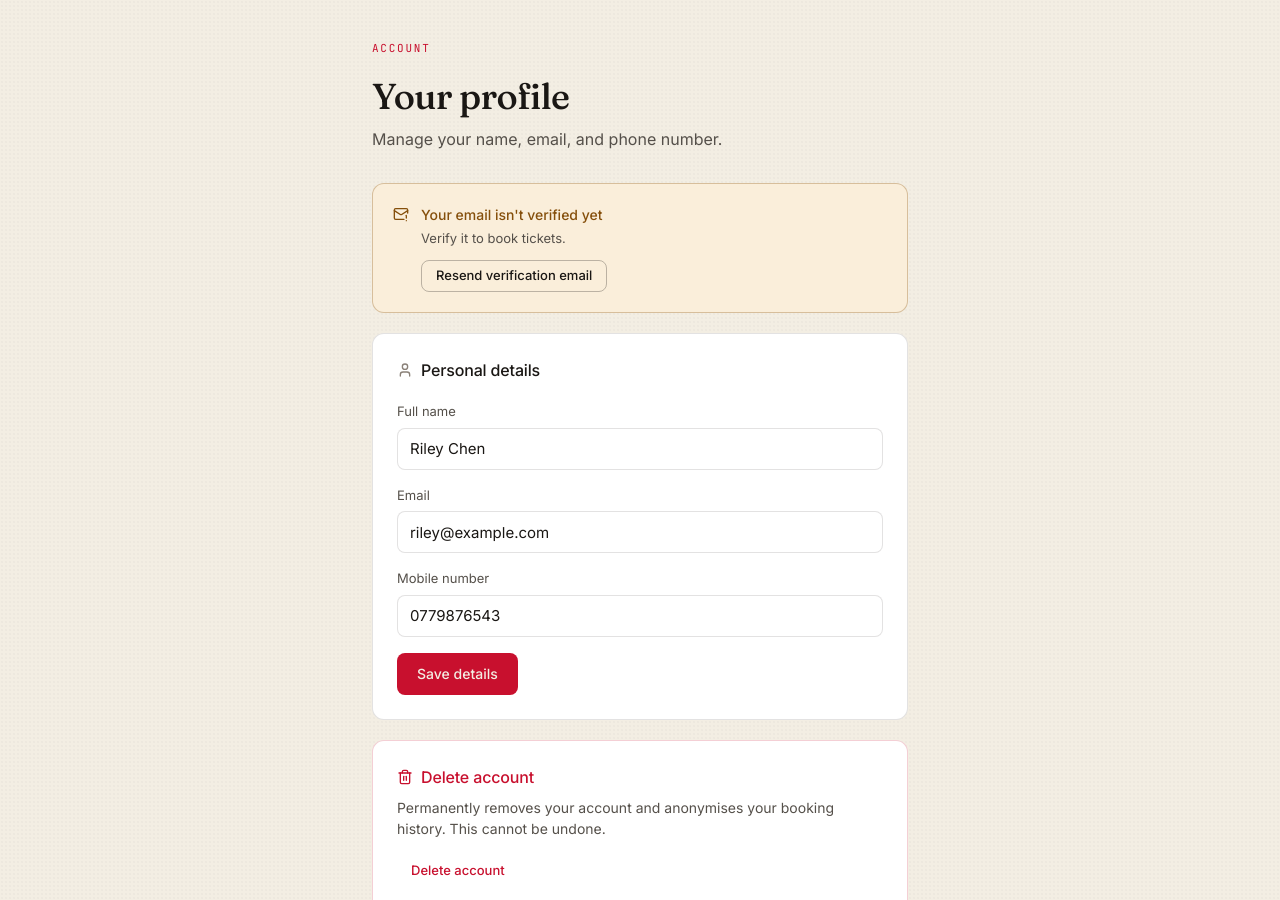
Test: ProfilePage › shows the verification notice for an unverified user and confirms resend
This screenshot has width=1280, height=900.
Expected: the field showing "Riley Chen" is shown, [397,428,883,470]
Expected: the text "Your email isn't verified yet" is shown, [421,206,602,222]
Click the button "Resend verification email" at [514, 276], box [421,260,607,292]
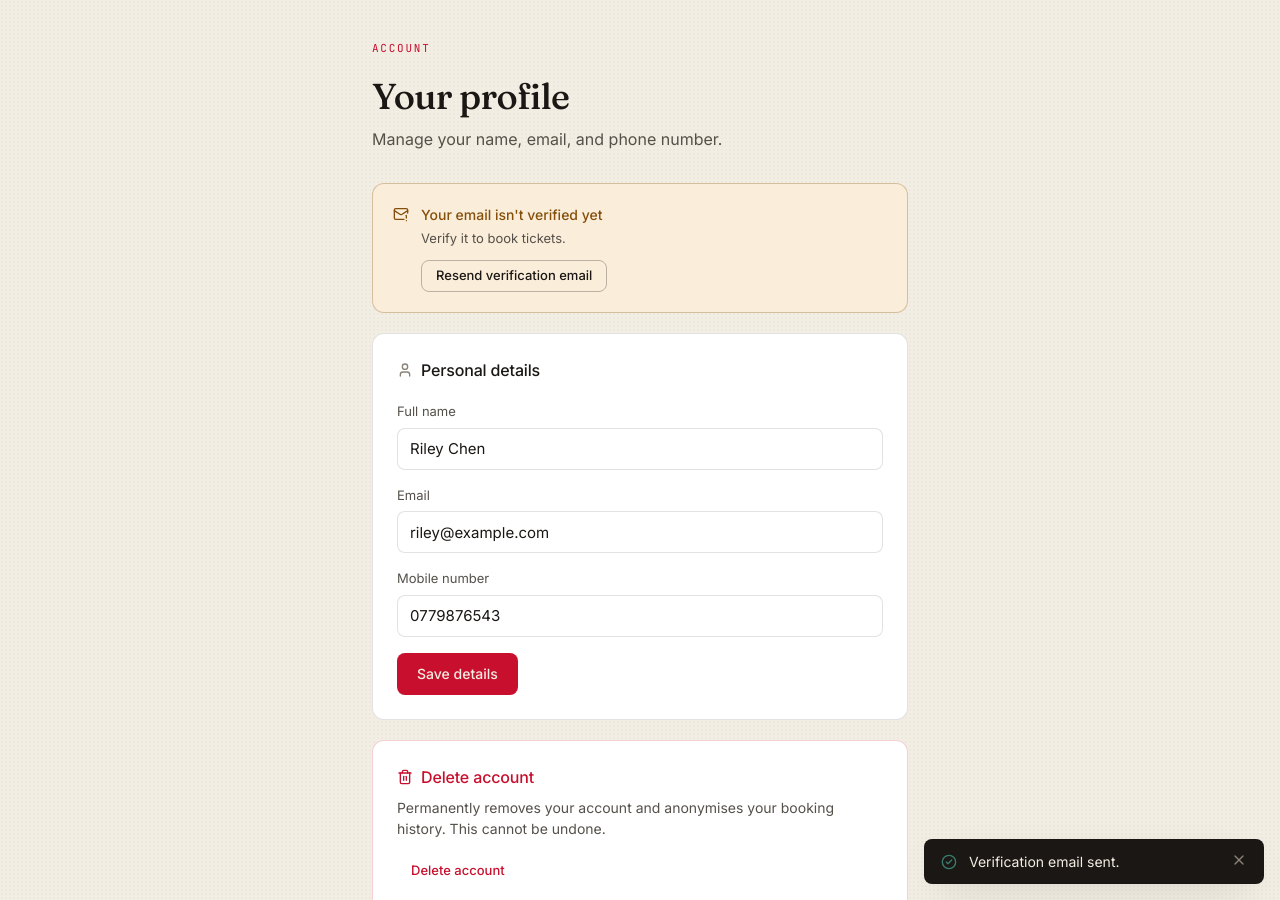
Result: the text "Verification email sent." is shown at [969,853,1120,870]
